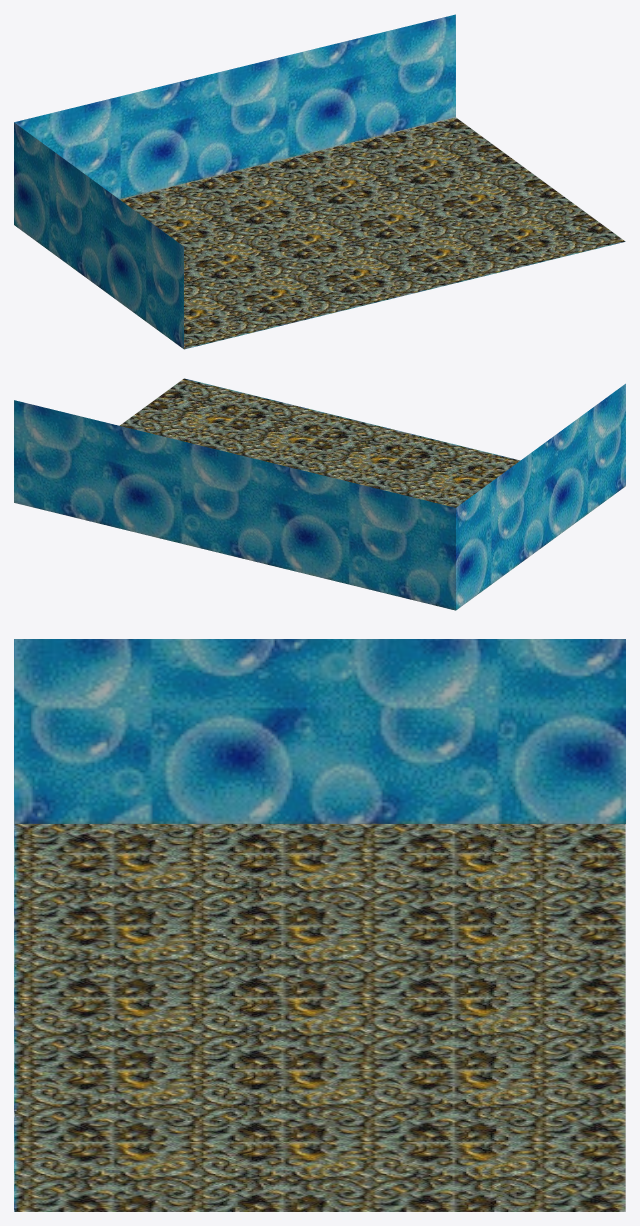
The model's file is WizardRoom.glb.
3 renders of one model, top to bottom at view 1: azimuth 30°, elevation 25°; view 2: azimuth 150°, elevation 25°; view 3: azimuth 270°, elevation 25°, orthographic. The views are drawn at different scales.
Visible parts, largest first — view 1: Cube; view 2: Cube; view 3: Cube.
Part boxes in pixels (x1=…): Cube: x1=14, y1=14, x2=625, y2=349; Cube: x1=14, y1=378, x2=625, y2=610; Cube: x1=14, y1=639, x2=625, y2=1211.
Size of the model in its own units: 9 by 2 by 6.
Materials: 1 (1 with a texture image).
